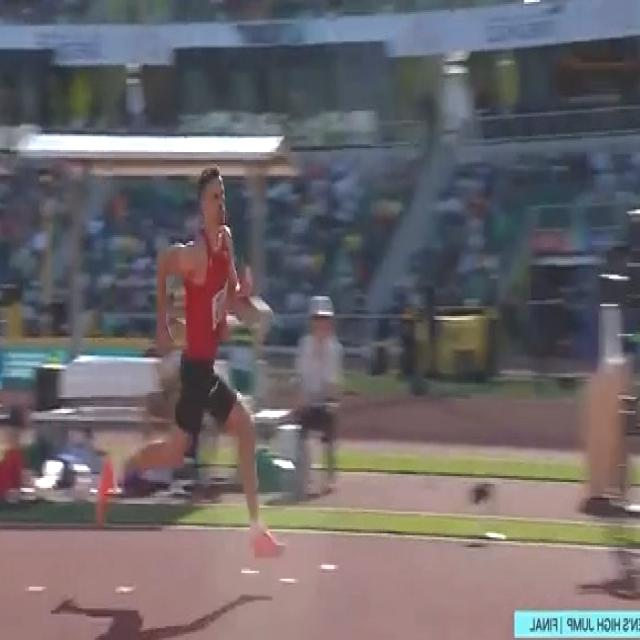run: (95, 167, 288, 560)
